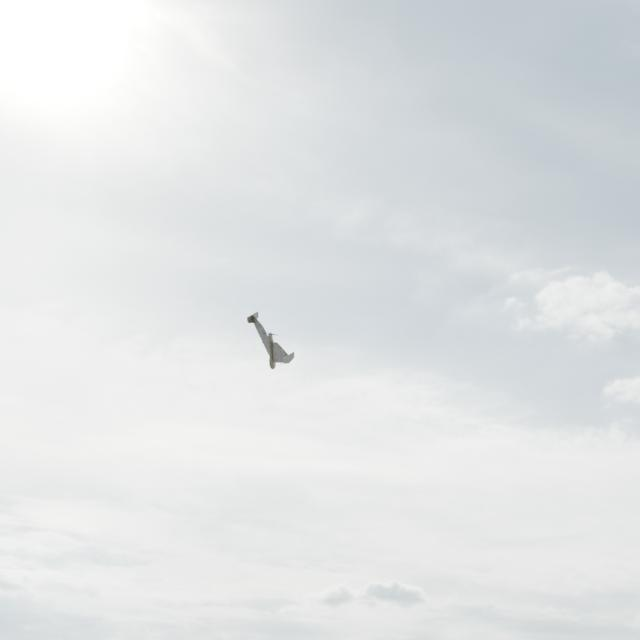Airaplan: (247, 311, 295, 369)
